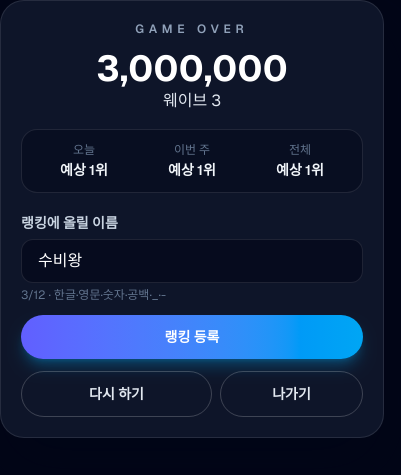
Test: ScoreSubmitPanel — 게임 사양·보드를 따른다 › 이름 오류는 알림(role=alert)으로 읽히고 입력칸으로 포커스가 돌아온다 — 서버 거절(금칙어)도 같다 (games-polish FE-30)
Click the button "랭킹 등록": (192, 337) [21,315,363,359]
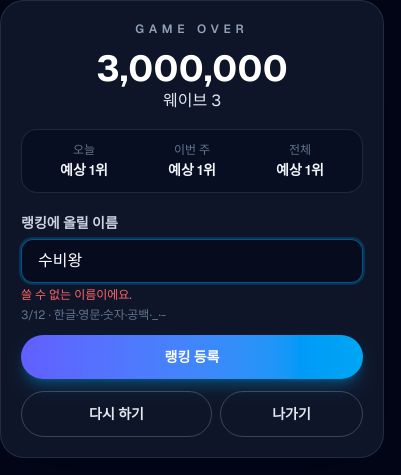
expect the message reads "쓸 수 없는 이름이에요.": met, box [21,287,132,303]
